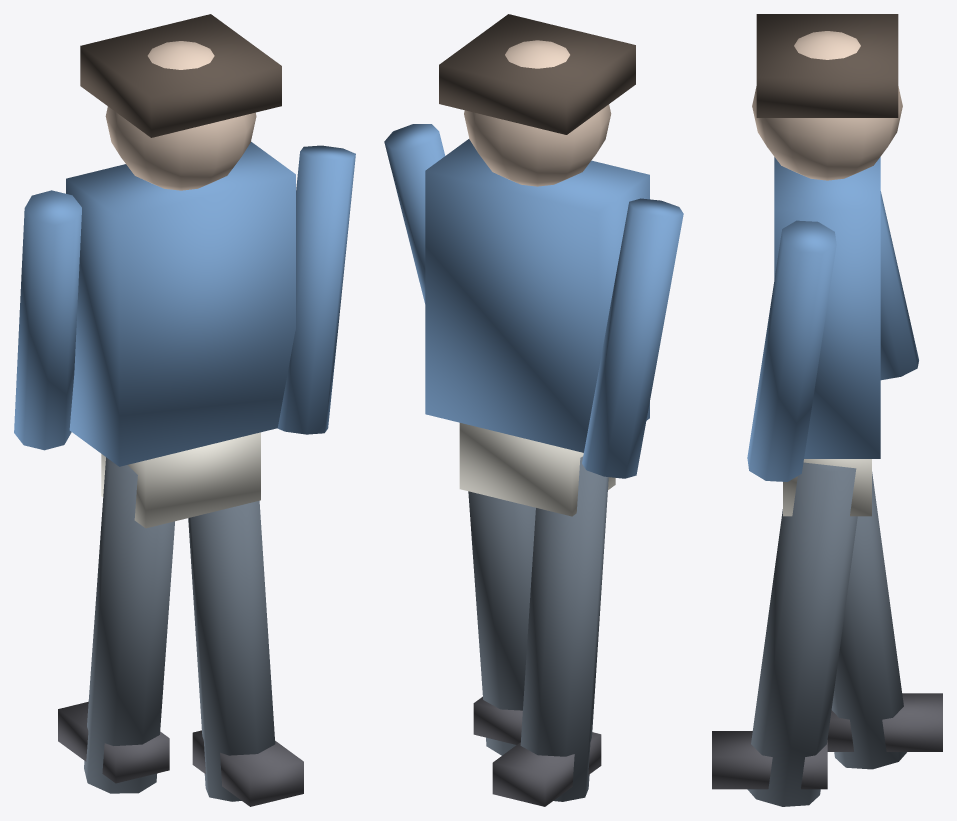
File: pedestrian_man.glb
3 renders of one model, left to right at view 1: azimuth 30°, elevation 25°; view 2: azimuth 150°, elevation 25°; view 3: azimuth 270°, elevation 25°, orthographic. The views are drawn at different scales.
Parts seen in each view (by area): view 1: PedestrianMan; view 2: PedestrianMan; view 3: PedestrianMan.
Boxes of the visible parts, x1=… form: PedestrianMan: x1=14, y1=14, x2=355, y2=806; PedestrianMan: x1=384, y1=14, x2=683, y2=806; PedestrianMan: x1=712, y1=14, x2=942, y2=806.
Bounding box in the file's own units: 0.8059 × 1.84 × 0.52.
